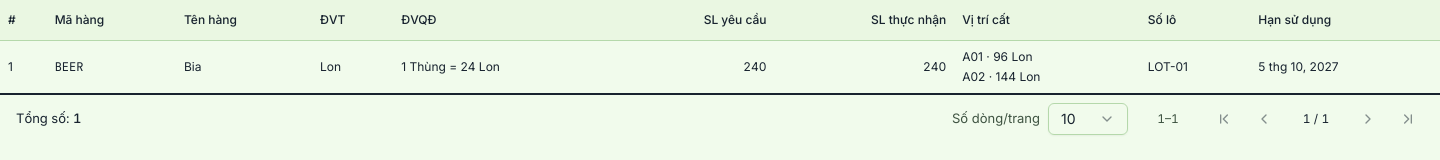
Scenario: inbound goods preview › explains ĐVT on hover
Hover over the text named "Đơn vị tính chính": (333, 19) [320,12,345,27]
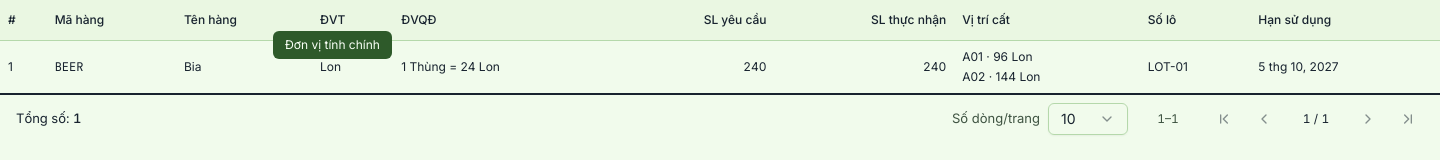
Check: the tooltip reads "Đơn vị tính chính", box [285,37,380,52]
